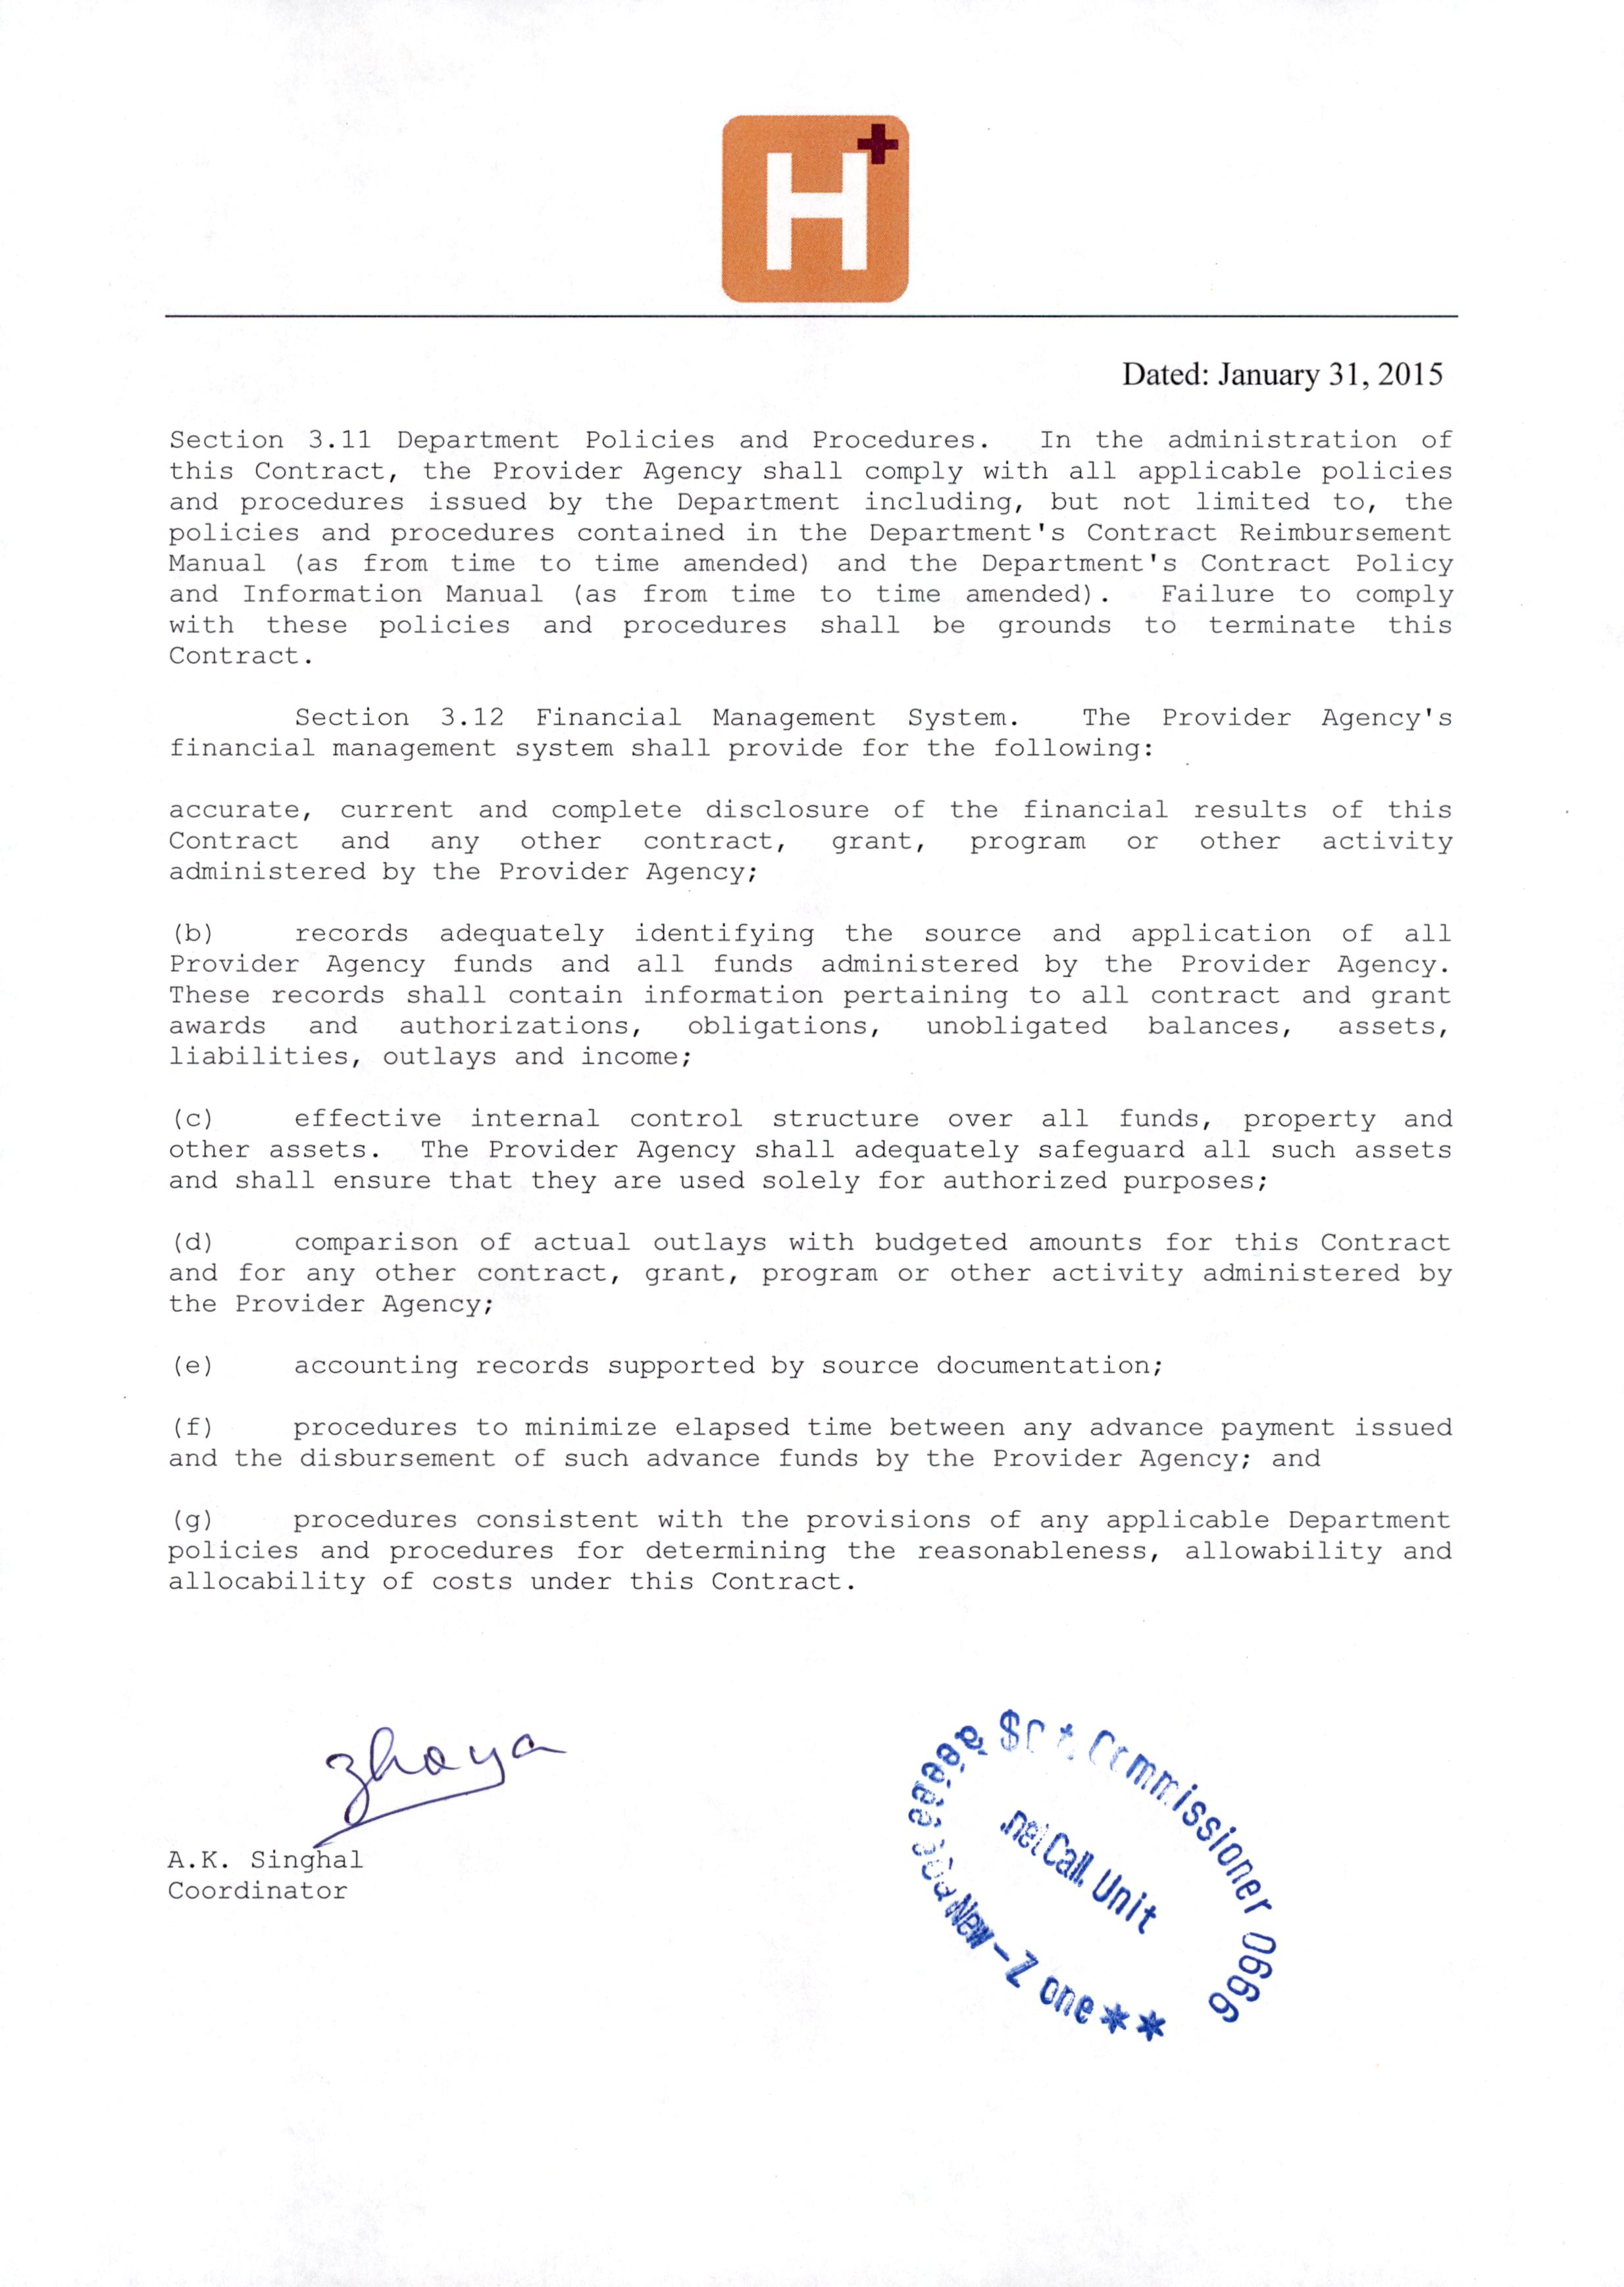Signature: (304, 1721, 578, 1850)
